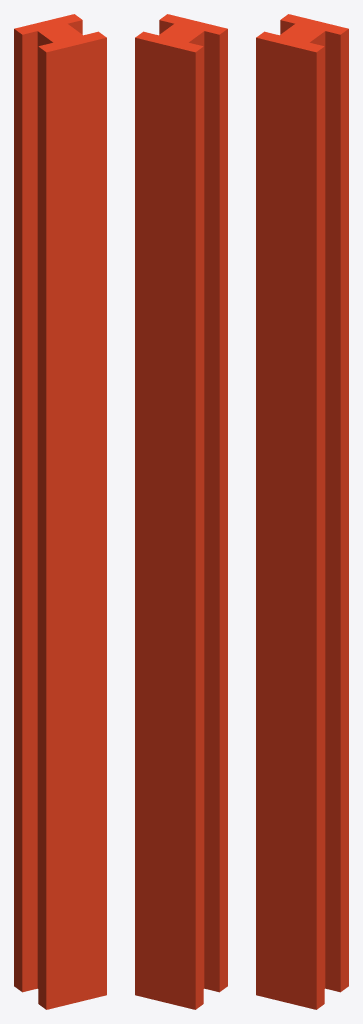
Rendered from SM_Fence_Industrial_Pillar_City.fbx.
3 views of the same model, side by side, from view 1: azimuth 30°, elevation 25°; view 2: azimuth 150°, elevation 25°; view 3: azimuth 330°, elevation 25° (orthographic).
Visible parts, largest first — view 1: SM_Fence_Industrial_Pillar_City; view 2: SM_Fence_Industrial_Pillar_City; view 3: SM_Fence_Industrial_Pillar_City.
Boxes of the visible parts, <box> form: SM_Fence_Industrial_Pillar_City: <box>14,14,106,1009</box>; SM_Fence_Industrial_Pillar_City: <box>135,14,227,1009</box>; SM_Fence_Industrial_Pillar_City: <box>256,14,348,1009</box>.
Size of the model in its own units: 0.1384 by 2.1 by 0.1284.
